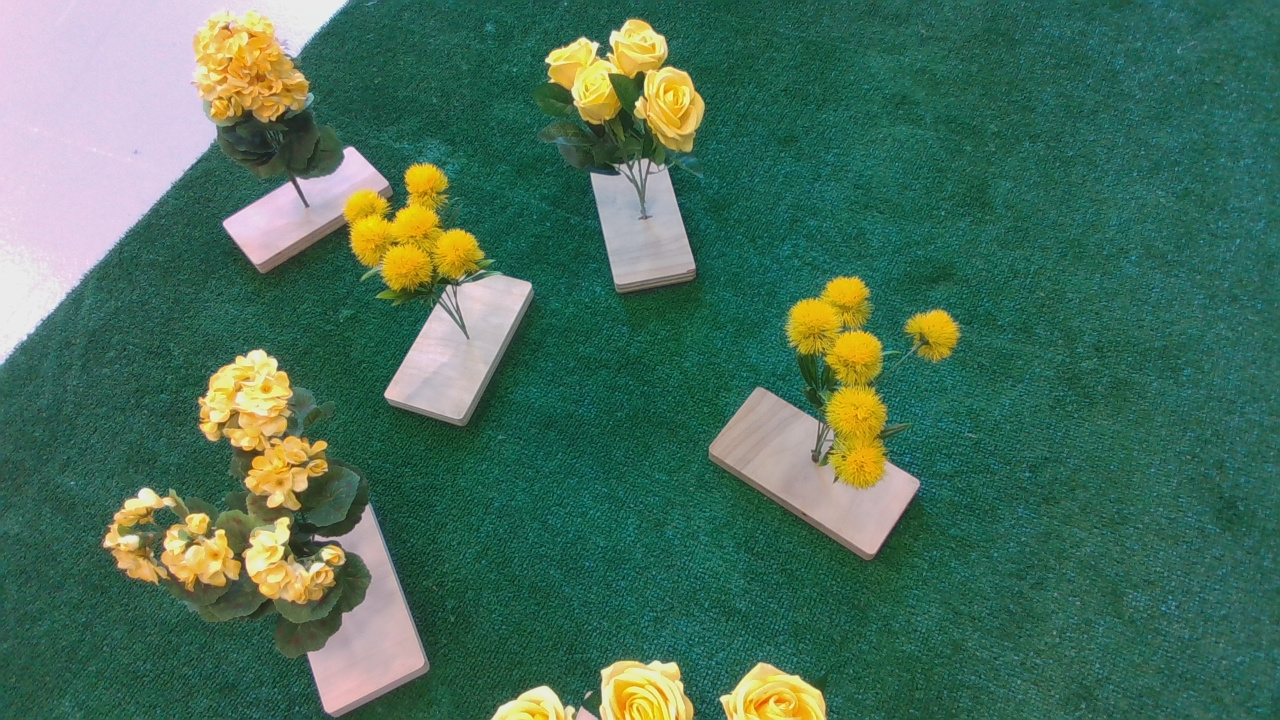dandelion: (774, 265, 970, 497), (343, 166, 520, 301)
geranium: (104, 353, 384, 660), (190, 9, 343, 198)
rose: (543, 19, 725, 181)
